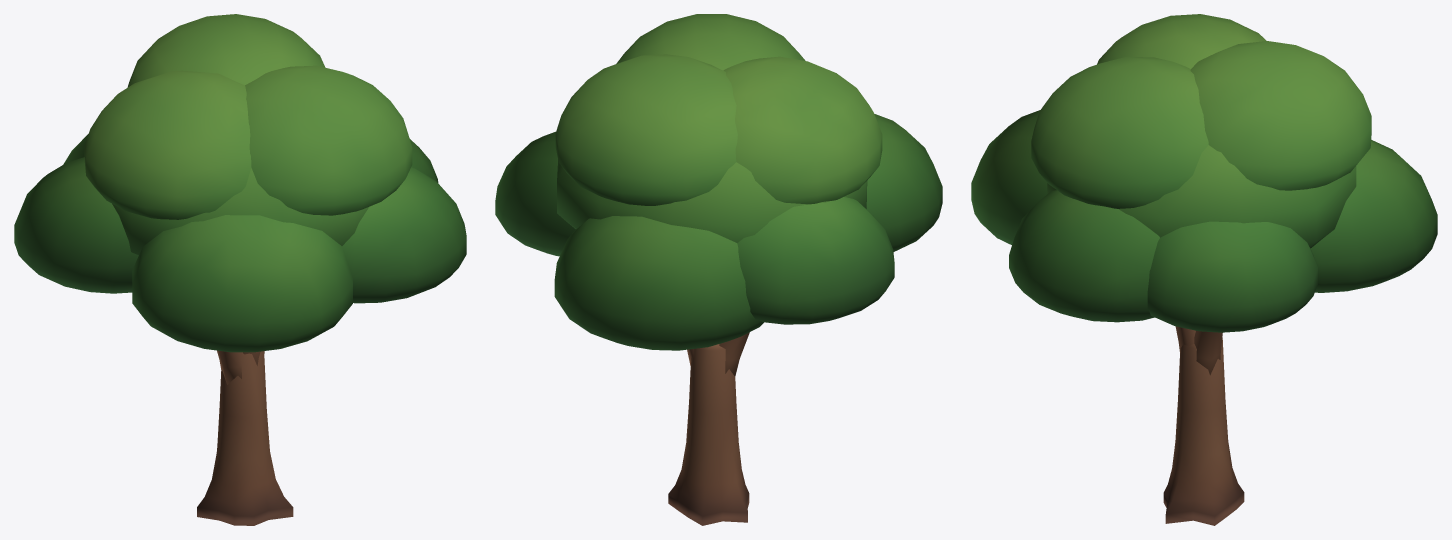
File: oak_1.glb
3 views of the same model, side by side, from view 1: azimuth 30°, elevation 25°; view 2: azimuth 150°, elevation 25°; view 3: azimuth 270°, elevation 25° (orthographic).
Visible parts, largest first — view 1: oak_1; view 2: oak_1; view 3: oak_1.
Part boxes in pixels (box(x1,y1,x2,y2)): oak_1: box(14, 14, 466, 525); oak_1: box(495, 14, 942, 525); oak_1: box(971, 14, 1437, 525).
Size of the model in its own units: 6.27 by 7.11 by 6.49.
